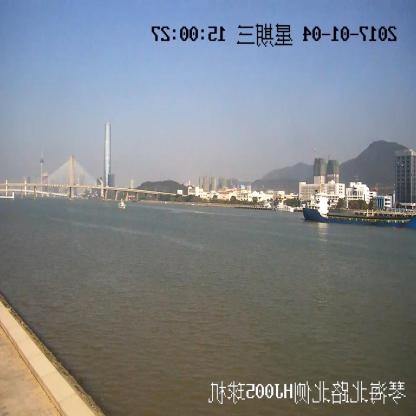Bulk Carrier: (303, 190, 415, 229)
